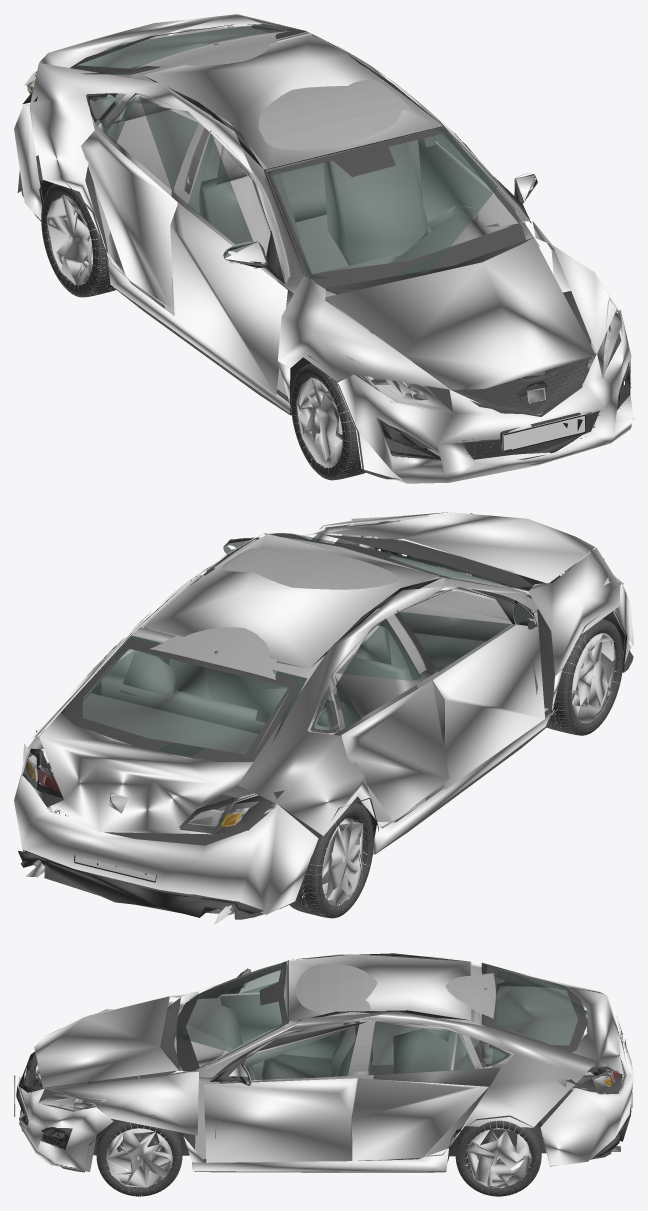
The model's file is mazda6-gh-thumb.glb.
3 renders of one model, top to bottom at view 1: azimuth 30°, elevation 25°; view 2: azimuth 150°, elevation 25°; view 3: azimuth 270°, elevation 25°, orthographic. The views are drawn at different scales.
Parts seen in each view (by area): view 1: Mazda6_Web; view 2: Mazda6_Web; view 3: Mazda6_Web.
Boxes of the visible parts, bbox=[...] form: Mazda6_Web: bbox=[14, 14, 633, 483]; Mazda6_Web: bbox=[14, 512, 633, 924]; Mazda6_Web: bbox=[14, 953, 633, 1196].
Size of the model in its own units: 1.99 by 1.43 by 4.74.
2 materials, 2 textured.
